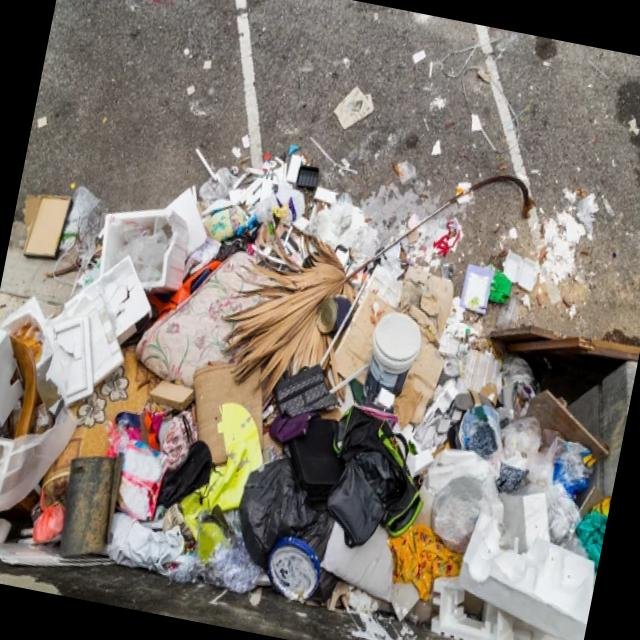garbage: (0, 77, 636, 640)
